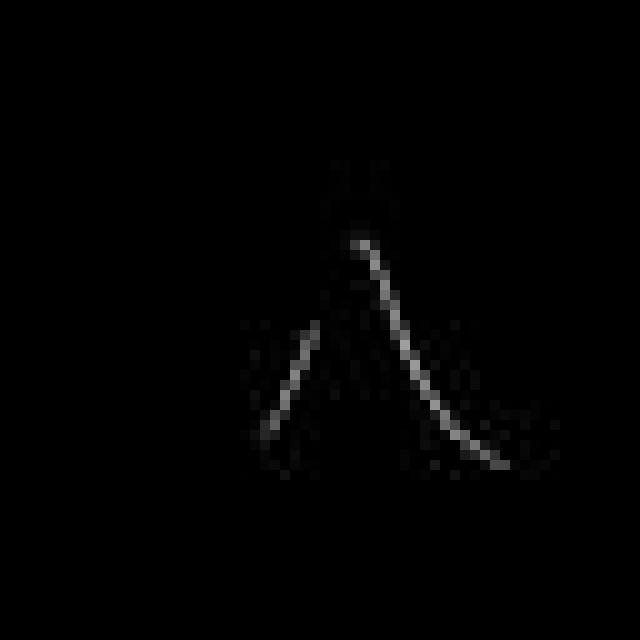8 -eight-: (257, 226, 524, 492)
